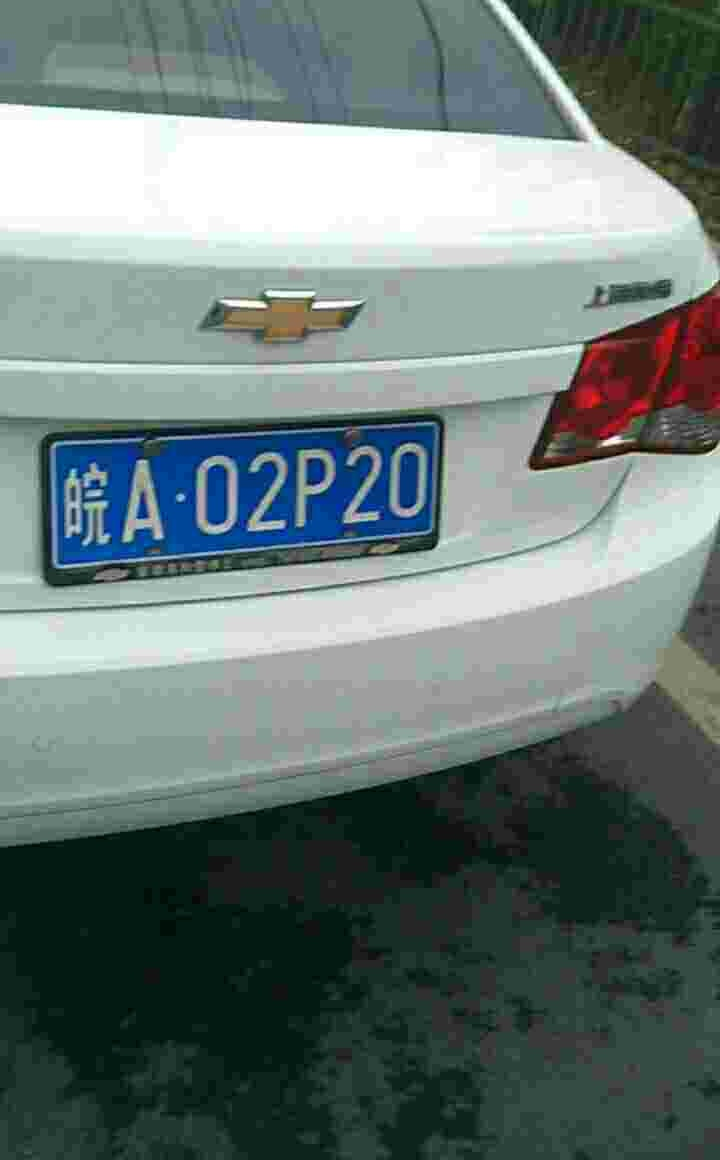license_plate: (59, 418, 446, 568)
